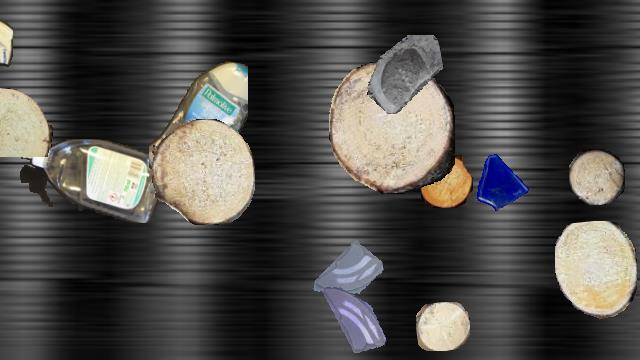glass: (365, 35, 443, 113), (316, 285, 390, 359), (311, 238, 383, 310), (471, 151, 531, 211)
plastic: (149, 57, 247, 191), (20, 139, 166, 223), (0, 1, 12, 101)
wood: (329, 61, 455, 193), (152, 119, 254, 225), (555, 221, 637, 319), (0, 88, 52, 156), (569, 149, 625, 205), (420, 155, 472, 207), (416, 302, 470, 350)
